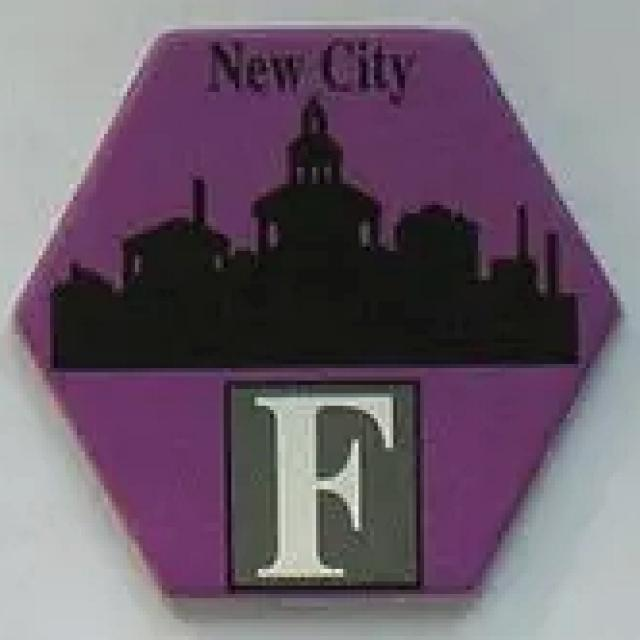21_0: (18, 29, 618, 606)
